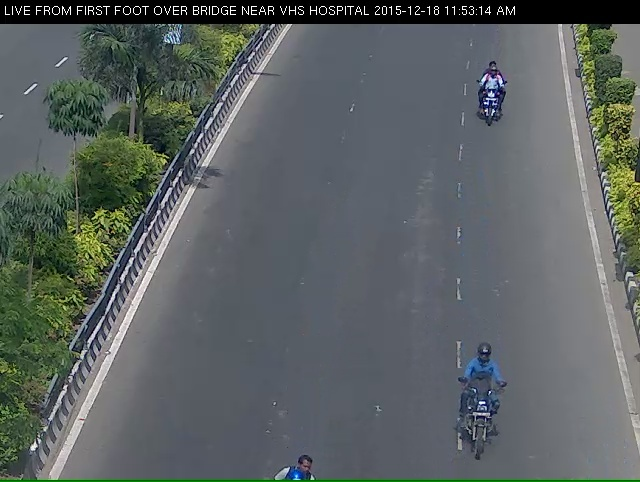Person: (450, 379, 516, 480), (471, 64, 512, 151)
